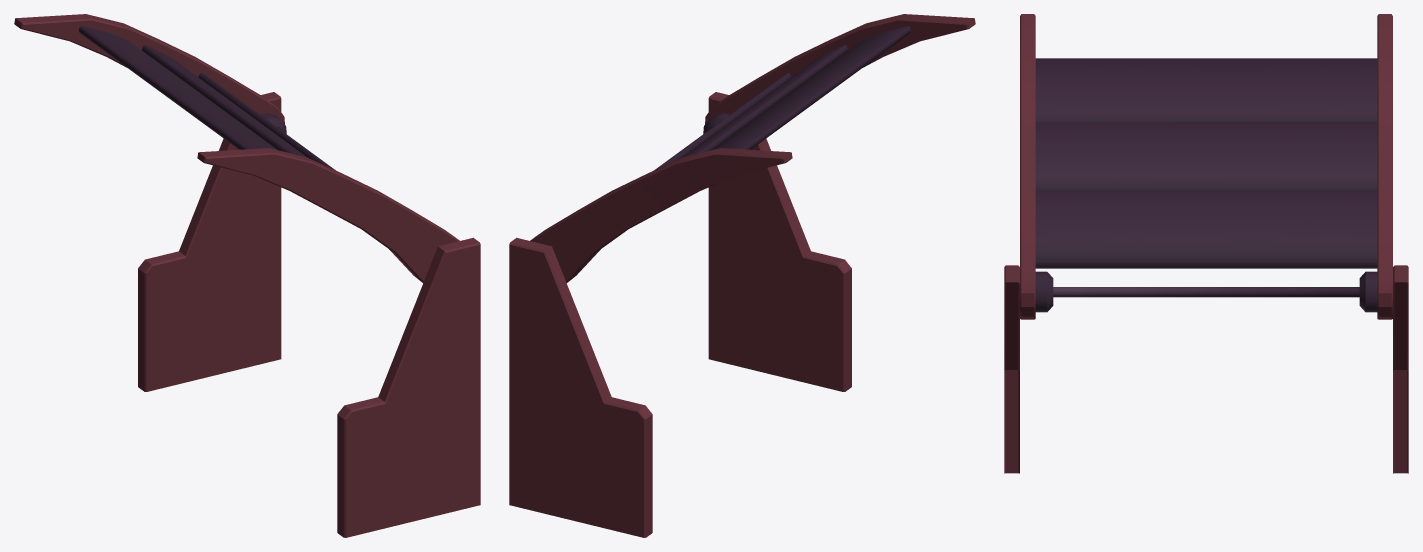
The model's file is ENV_Decoration_01.FBX.
3 views of the same model, side by side, from view 1: azimuth 30°, elevation 25°; view 2: azimuth 150°, elevation 25°; view 3: azimuth 270°, elevation 25° (orthographic). The views are drawn at different scales.
Visible parts, largest first — view 1: ENV_Decoration_01; view 2: ENV_Decoration_01; view 3: ENV_Decoration_01.
Part boxes in pixels (box(x1,y1,x2,y2)): ENV_Decoration_01: box(14, 14, 480, 537); ENV_Decoration_01: box(509, 14, 975, 537); ENV_Decoration_01: box(1004, 14, 1408, 473).
Bounding box in the file's own units: 532 × 771 × 712.
1 material, 1 textured.
